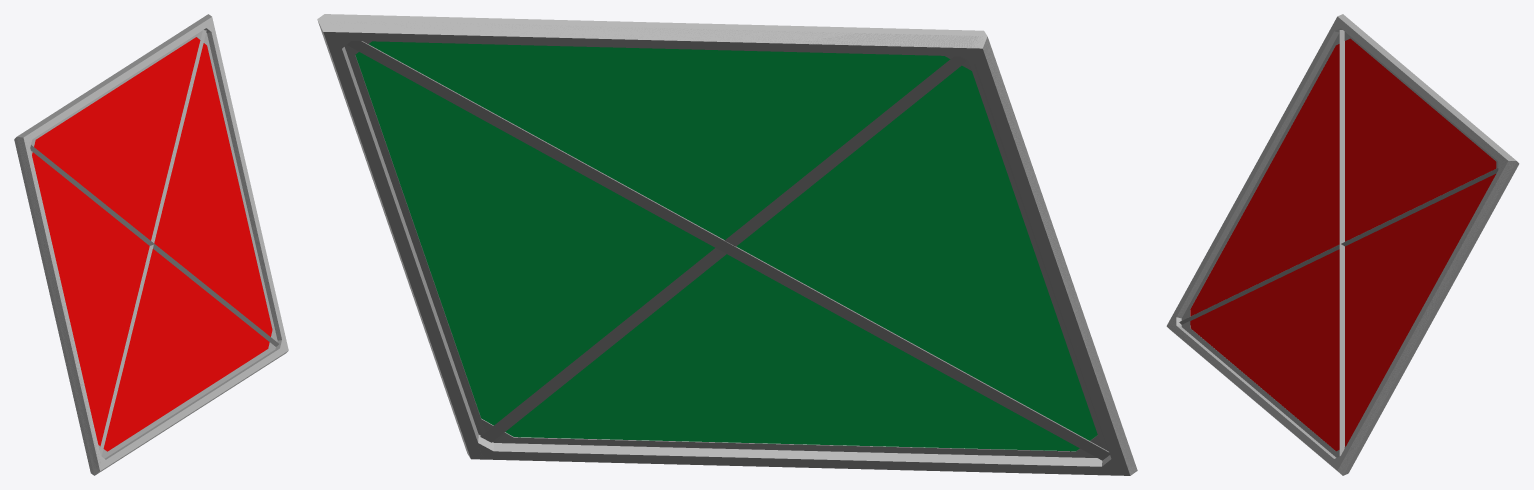
The model's file is angled slope.fbx.
3 views of the same model, side by side, from view 1: azimuth 30°, elevation 25°; view 2: azimuth 150°, elevation 25°; view 3: azimuth 270°, elevation 25° (orthographic). The views are drawn at different scales.
Parts seen in each view (by area): view 1: window, Construction_model, frame, Bezzel; view 2: window, Construction_model, frame, Bezzel; view 3: window, Construction_model, frame, Bezzel.
Part boxes in pixels (x1=…): window: x1=32, y1=37, x2=272, y2=451; Construction_model: x1=15, y1=14, x2=288, y2=475; frame: x1=14, y1=28, x2=287, y2=475; Bezzel: x1=31, y1=30, x2=277, y2=458; window: x1=355, y1=41, x2=1097, y2=451; Construction_model: x1=317, y1=14, x2=1136, y2=475; frame: x1=318, y1=21, x2=1137, y2=475; Bezzel: x1=344, y1=41, x2=1108, y2=457; window: x1=1190, y1=38, x2=1496, y2=451; Construction_model: x1=1166, y1=14, x2=1516, y2=475; frame: x1=1168, y1=28, x2=1519, y2=475; Bezzel: x1=1181, y1=32, x2=1498, y2=457.
Bounding box in the file's own units: 2.54 × 2.54 × 2.58.
